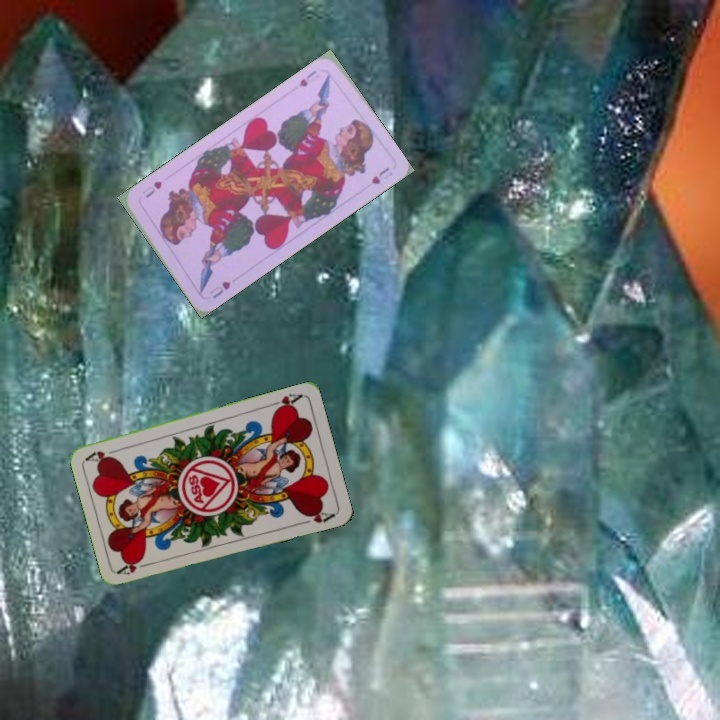HA: (265, 389, 305, 414), (115, 555, 155, 578)
HU: (205, 277, 234, 301), (295, 66, 322, 89)
